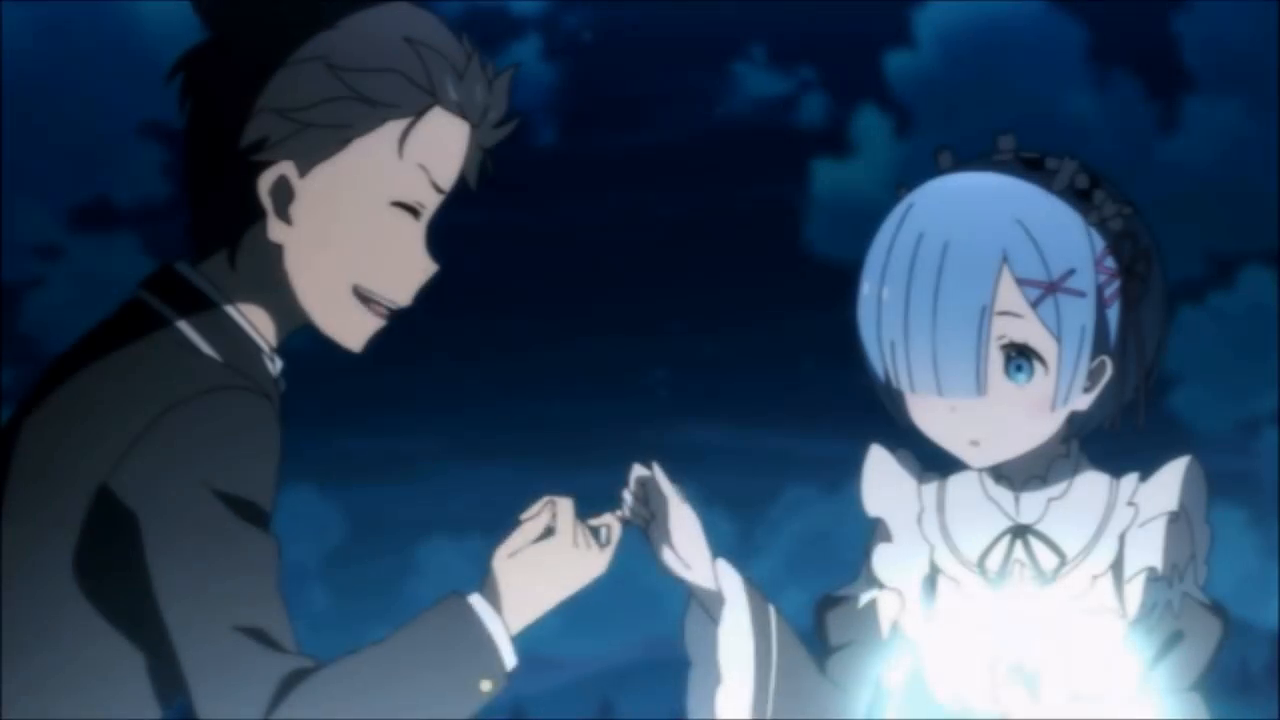REM: (850, 143, 1157, 473)
